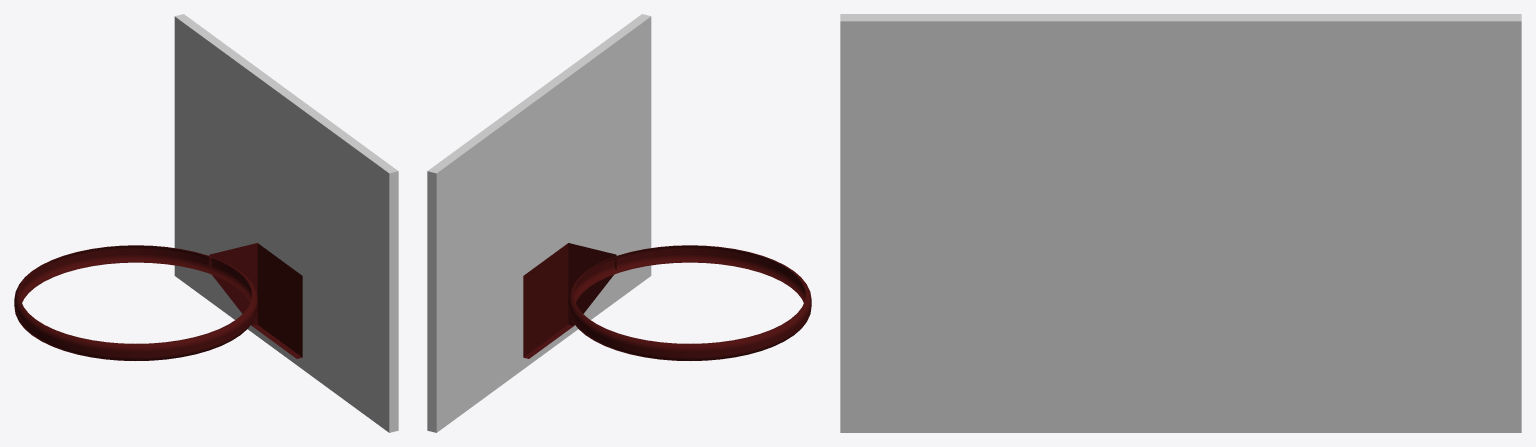
The model's file is basket.fbx.
3 renders of one model, left to right at view 1: azimuth 30°, elevation 25°; view 2: azimuth 150°, elevation 25°; view 3: azimuth 270°, elevation 25°, orthographic. The views are drawn at different scales.
Visible parts, largest first — view 1: Plane, BezierCircle, Plane.001; view 2: Plane, BezierCircle, Plane.001; view 3: Plane.
Part boxes in pixels (x1=…): Plane: x1=174, y1=14, x2=398, y2=432; BezierCircle: x1=14, y1=245, x2=257, y2=360; Plane.001: x1=209, y1=243, x2=302, y2=358; Plane: x1=427, y1=14, x2=651, y2=432; BezierCircle: x1=568, y1=245, x2=811, y2=360; Plane.001: x1=523, y1=243, x2=616, y2=358; Plane: x1=840, y1=14, x2=1521, y2=432.
Bounding box in the file's own units: 140 × 133 × 200.
